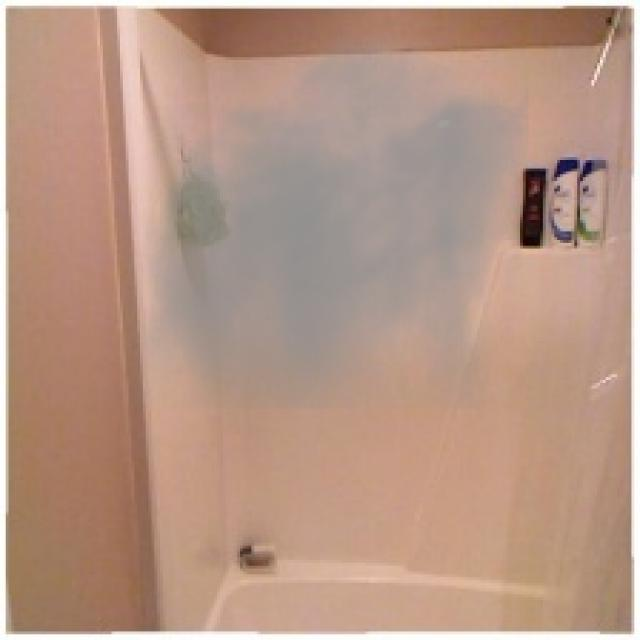Smoke: (140, 17, 529, 409)
